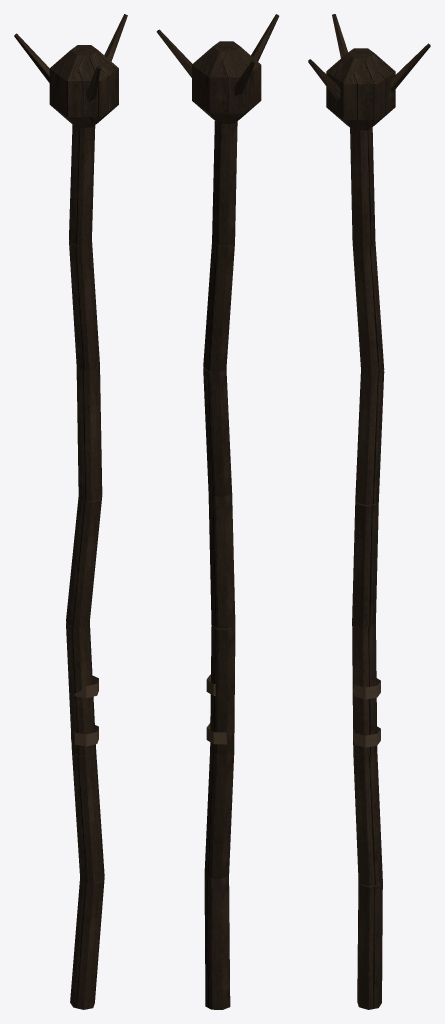
The model's file is wpn_staff_common.glb.
3 renders of one model, left to right at view 1: azimuth 30°, elevation 25°; view 2: azimuth 150°, elevation 25°; view 3: azimuth 330°, elevation 25°, orthographic.
Visible parts, largest first — view 1: wpn_staff_common; view 2: wpn_staff_common; view 3: wpn_staff_common.
Boxes of the visible parts, left/top/right/bottom form: wpn_staff_common: left=14, top=14, right=127, bottom=1009; wpn_staff_common: left=156, top=14, right=279, bottom=1009; wpn_staff_common: left=308, top=14, right=430, bottom=1009.
Bounding box in the file's own units: 0.2303 × 2.01 × 0.2079.
Materials: 2 (2 with a texture image).
